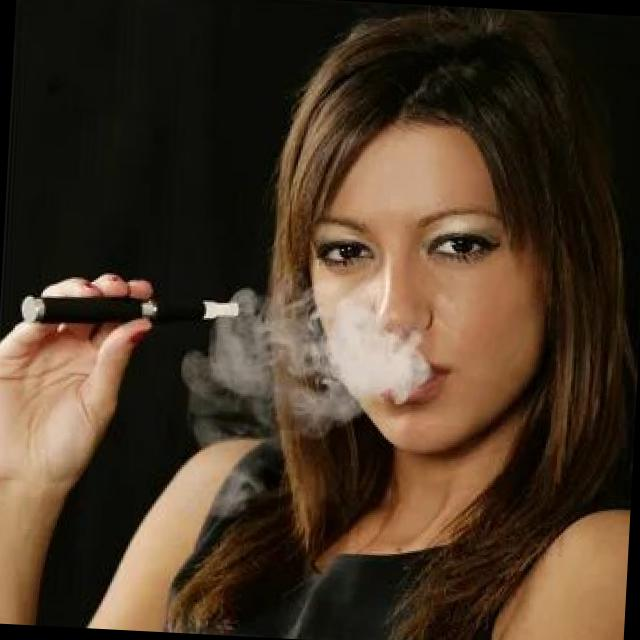smoke: (15, 284, 261, 341)
